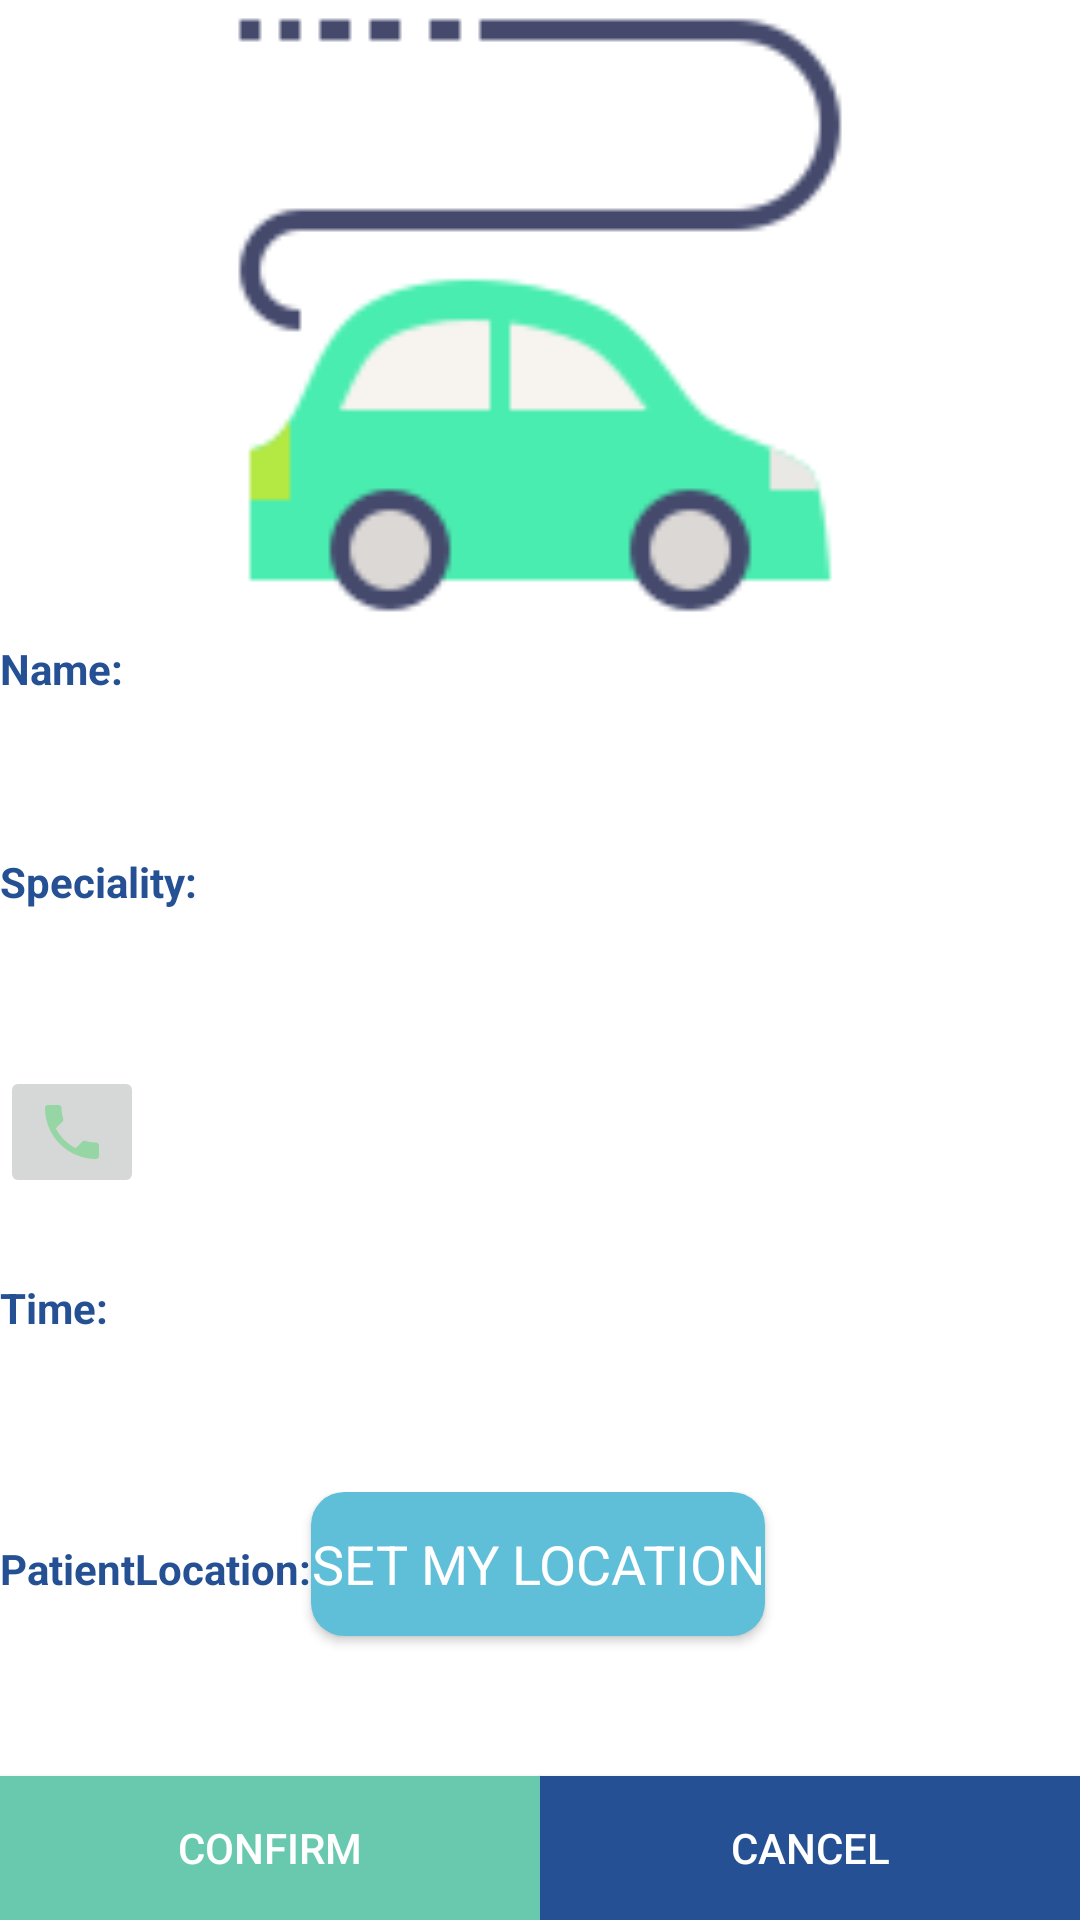

Point at icon controls on the screen. Image size 1080 x 1920, points as (x,y).
phone: (72,1132)
